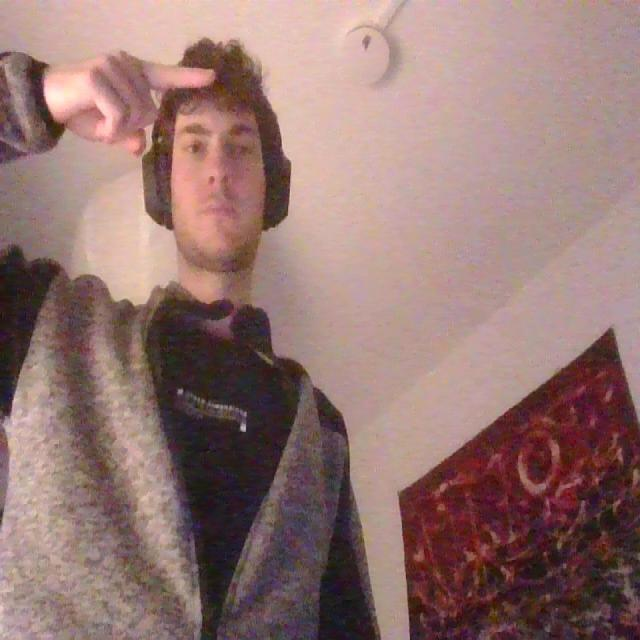right: (42, 41, 218, 163)
